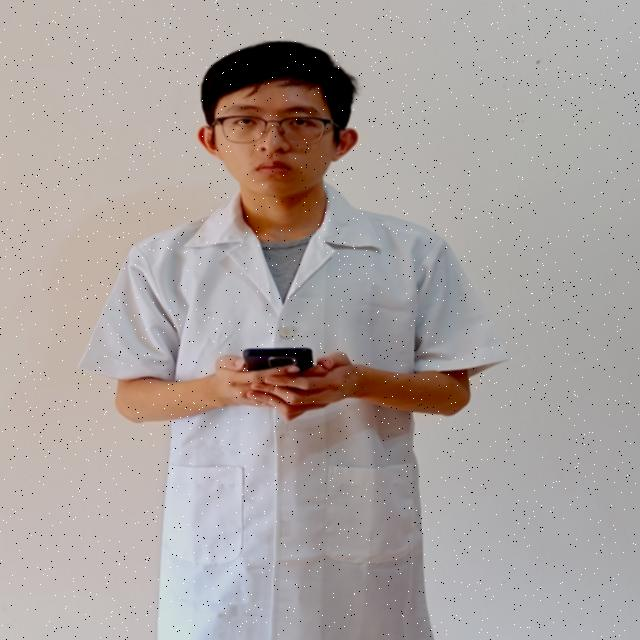person_with_labcoat: (81, 42, 507, 640)
